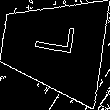L_W: (28, 27, 78, 66)
